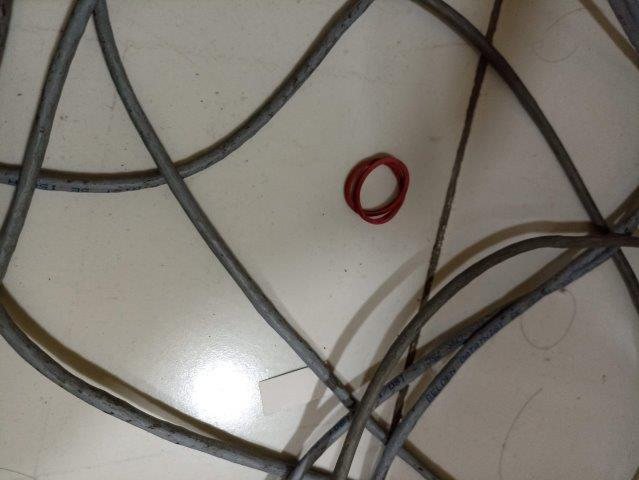karet: (343, 154, 410, 225)
